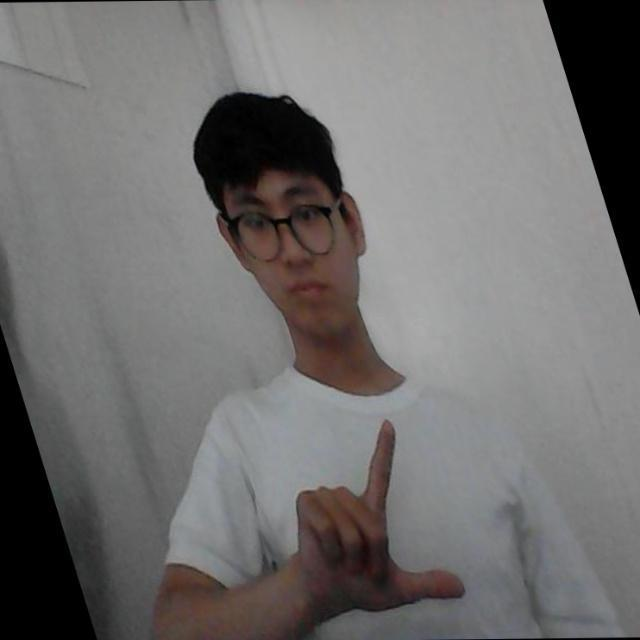L: (287, 404, 475, 618)
